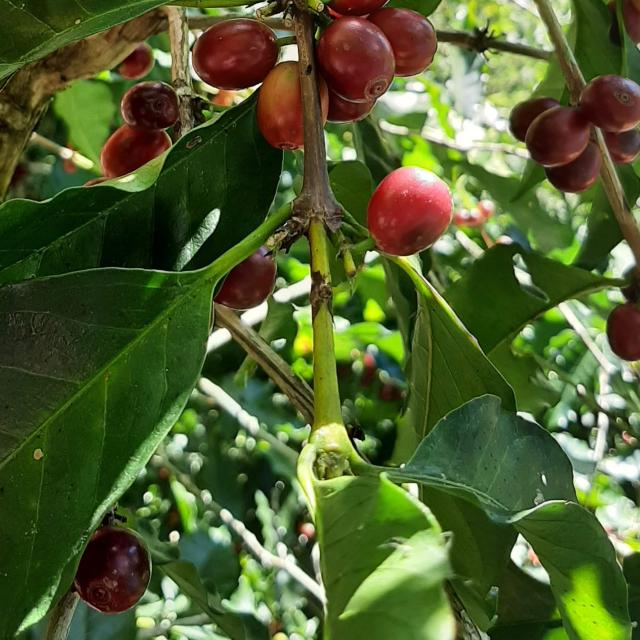red: (367, 166, 454, 255), (73, 526, 151, 616), (317, 15, 396, 102), (192, 18, 279, 89), (368, 7, 438, 76), (214, 246, 276, 310), (526, 106, 591, 167), (99, 124, 171, 178), (581, 74, 640, 132), (546, 140, 603, 193), (510, 96, 561, 141), (608, 303, 640, 361), (328, 88, 377, 123), (604, 127, 640, 164), (329, 0, 389, 15)
yellow: (256, 60, 303, 150), (319, 75, 329, 124)
